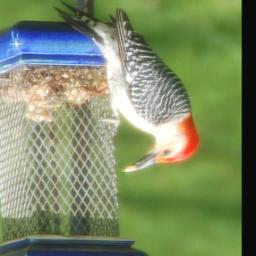Woodpecker: (45, 0, 200, 180)
